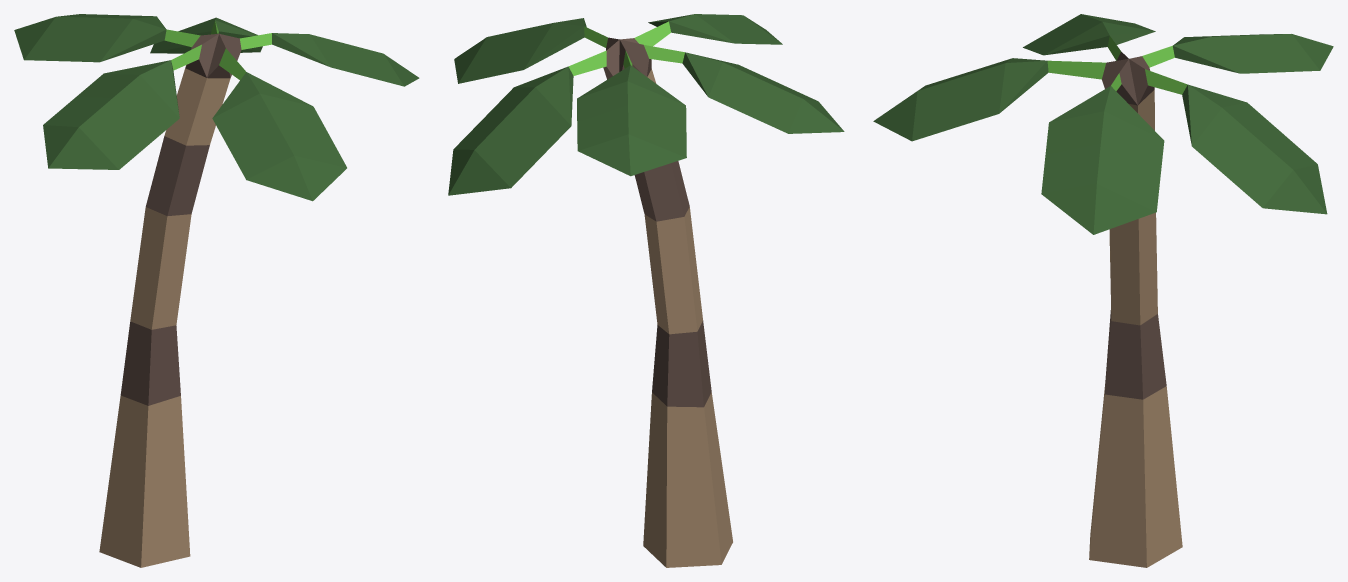
File: palm2.fbx
The picture shows the model from 3 angles, left to right: view 1: azimuth 30°, elevation 25°; view 2: azimuth 150°, elevation 25°; view 3: azimuth 270°, elevation 25°; orthographic projection. The views are drawn at different scales.
Parts seen in each view (by area): view 1: Circle; view 2: Circle; view 3: Circle.
Boxes of the visible parts, left/top/right/bottom form: Circle: left=14, top=14, right=419, bottom=567; Circle: left=448, top=14, right=844, bottom=567; Circle: left=873, top=14, right=1333, bottom=567.
Bounding box in the file's own units: 465 × 375 × 369.
